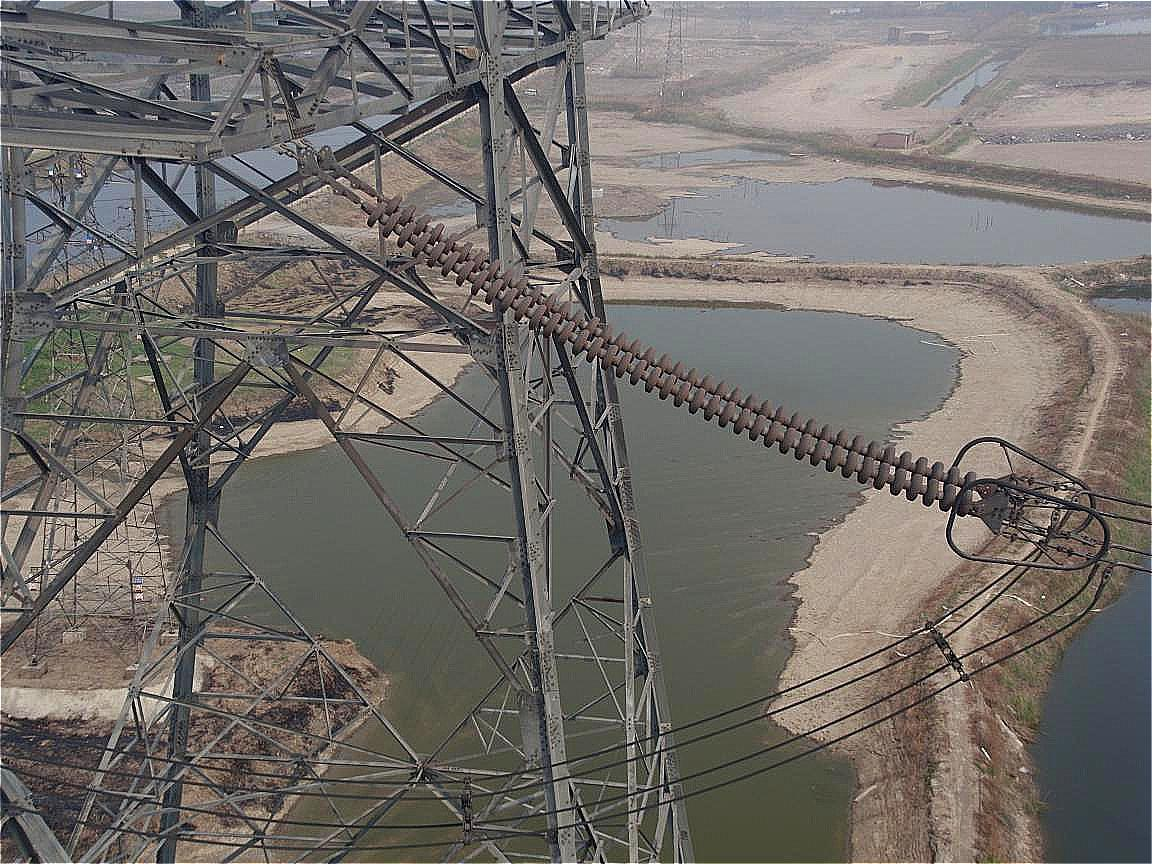insultor1: (363, 178, 994, 522)
